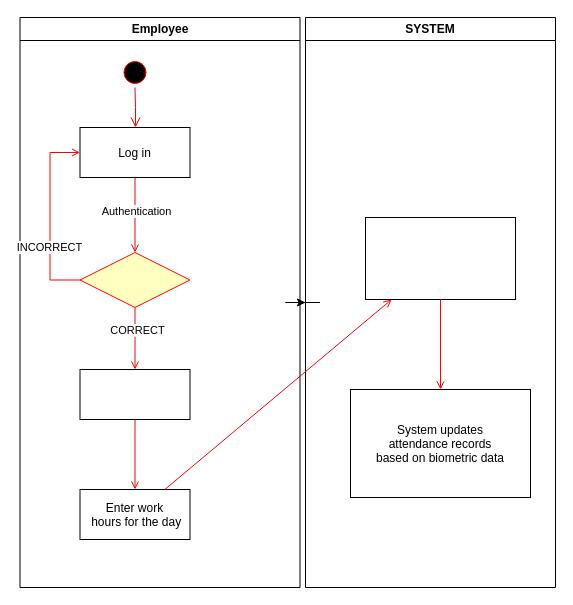
Image size: 573x605. Some labels were removed from this diagram. Each missing label, with the centre of its shape:
Access the attendance section.: the point at 134,394
Biometric data is collected.: the point at 440,258
